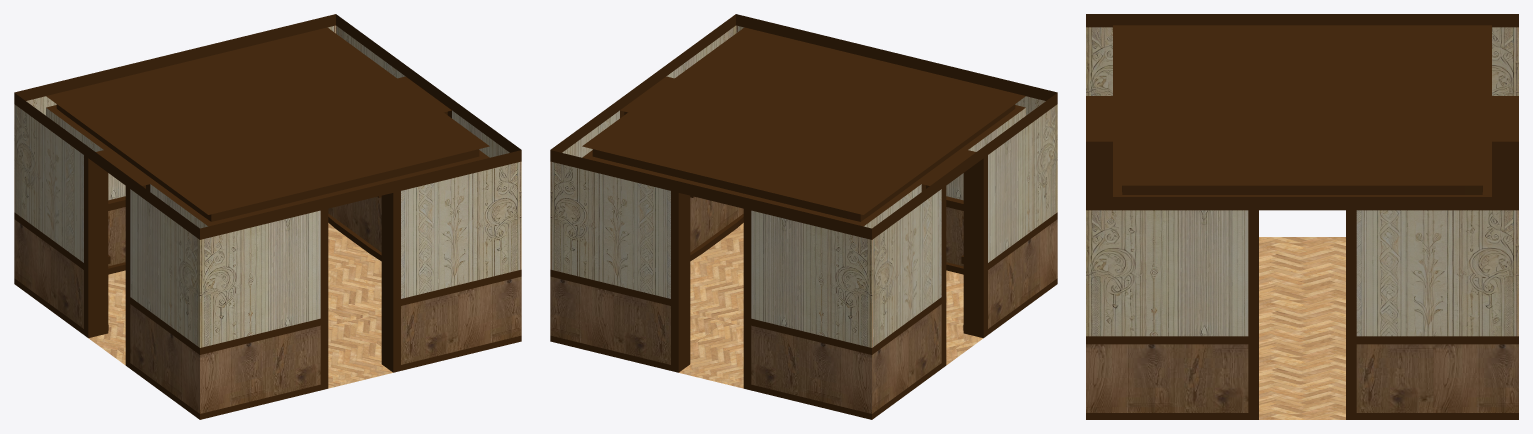
Rendered from IntroRoom.fbx.
3 views of the same model, side by side, from view 1: azimuth 30°, elevation 25°; view 2: azimuth 150°, elevation 25°; view 3: azimuth 270°, elevation 25° (orthographic). The views are drawn at different scales.
Visible parts, largest first — view 1: Plane; view 2: Plane; view 3: Plane.
Boxes of the visible parts, x1=… form: Plane: x1=14, y1=14, x2=521, y2=419; Plane: x1=550, y1=14, x2=1057, y2=419; Plane: x1=1086, y1=14, x2=1518, y2=419.
Size of the model in its own units: 200 by 114 by 200.
4 materials, 3 textured.
